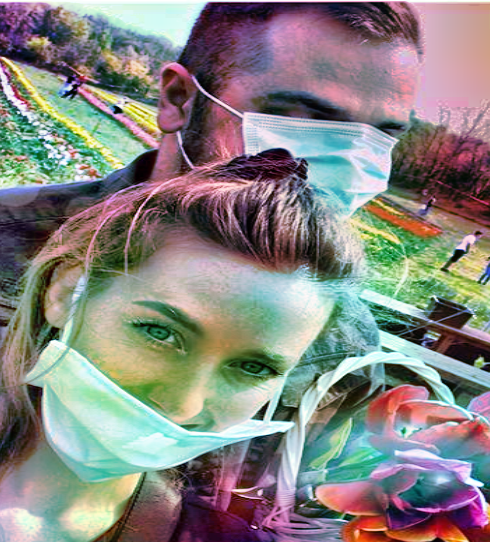mask_weared_incorrect: (31, 190, 338, 482), (156, 2, 432, 224)
